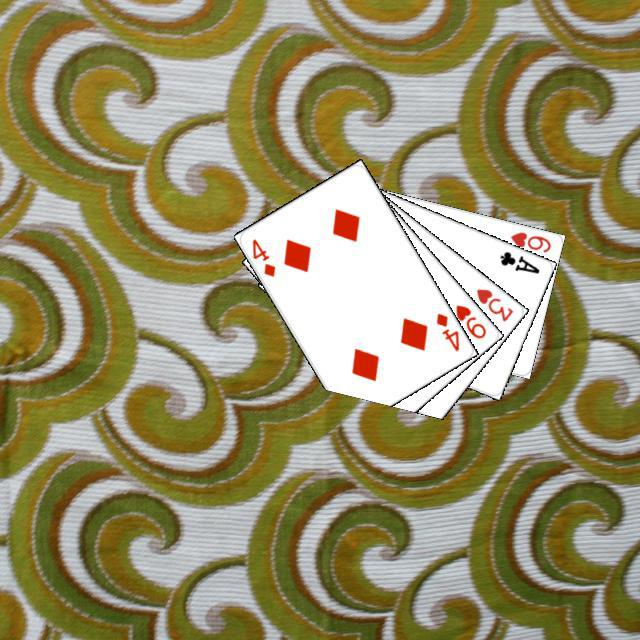3h: (471, 284, 515, 323)
4d: (431, 308, 461, 353), (247, 234, 277, 279)
6h: (505, 227, 552, 254)
9h: (450, 300, 488, 340)
Ac: (495, 246, 541, 276)
